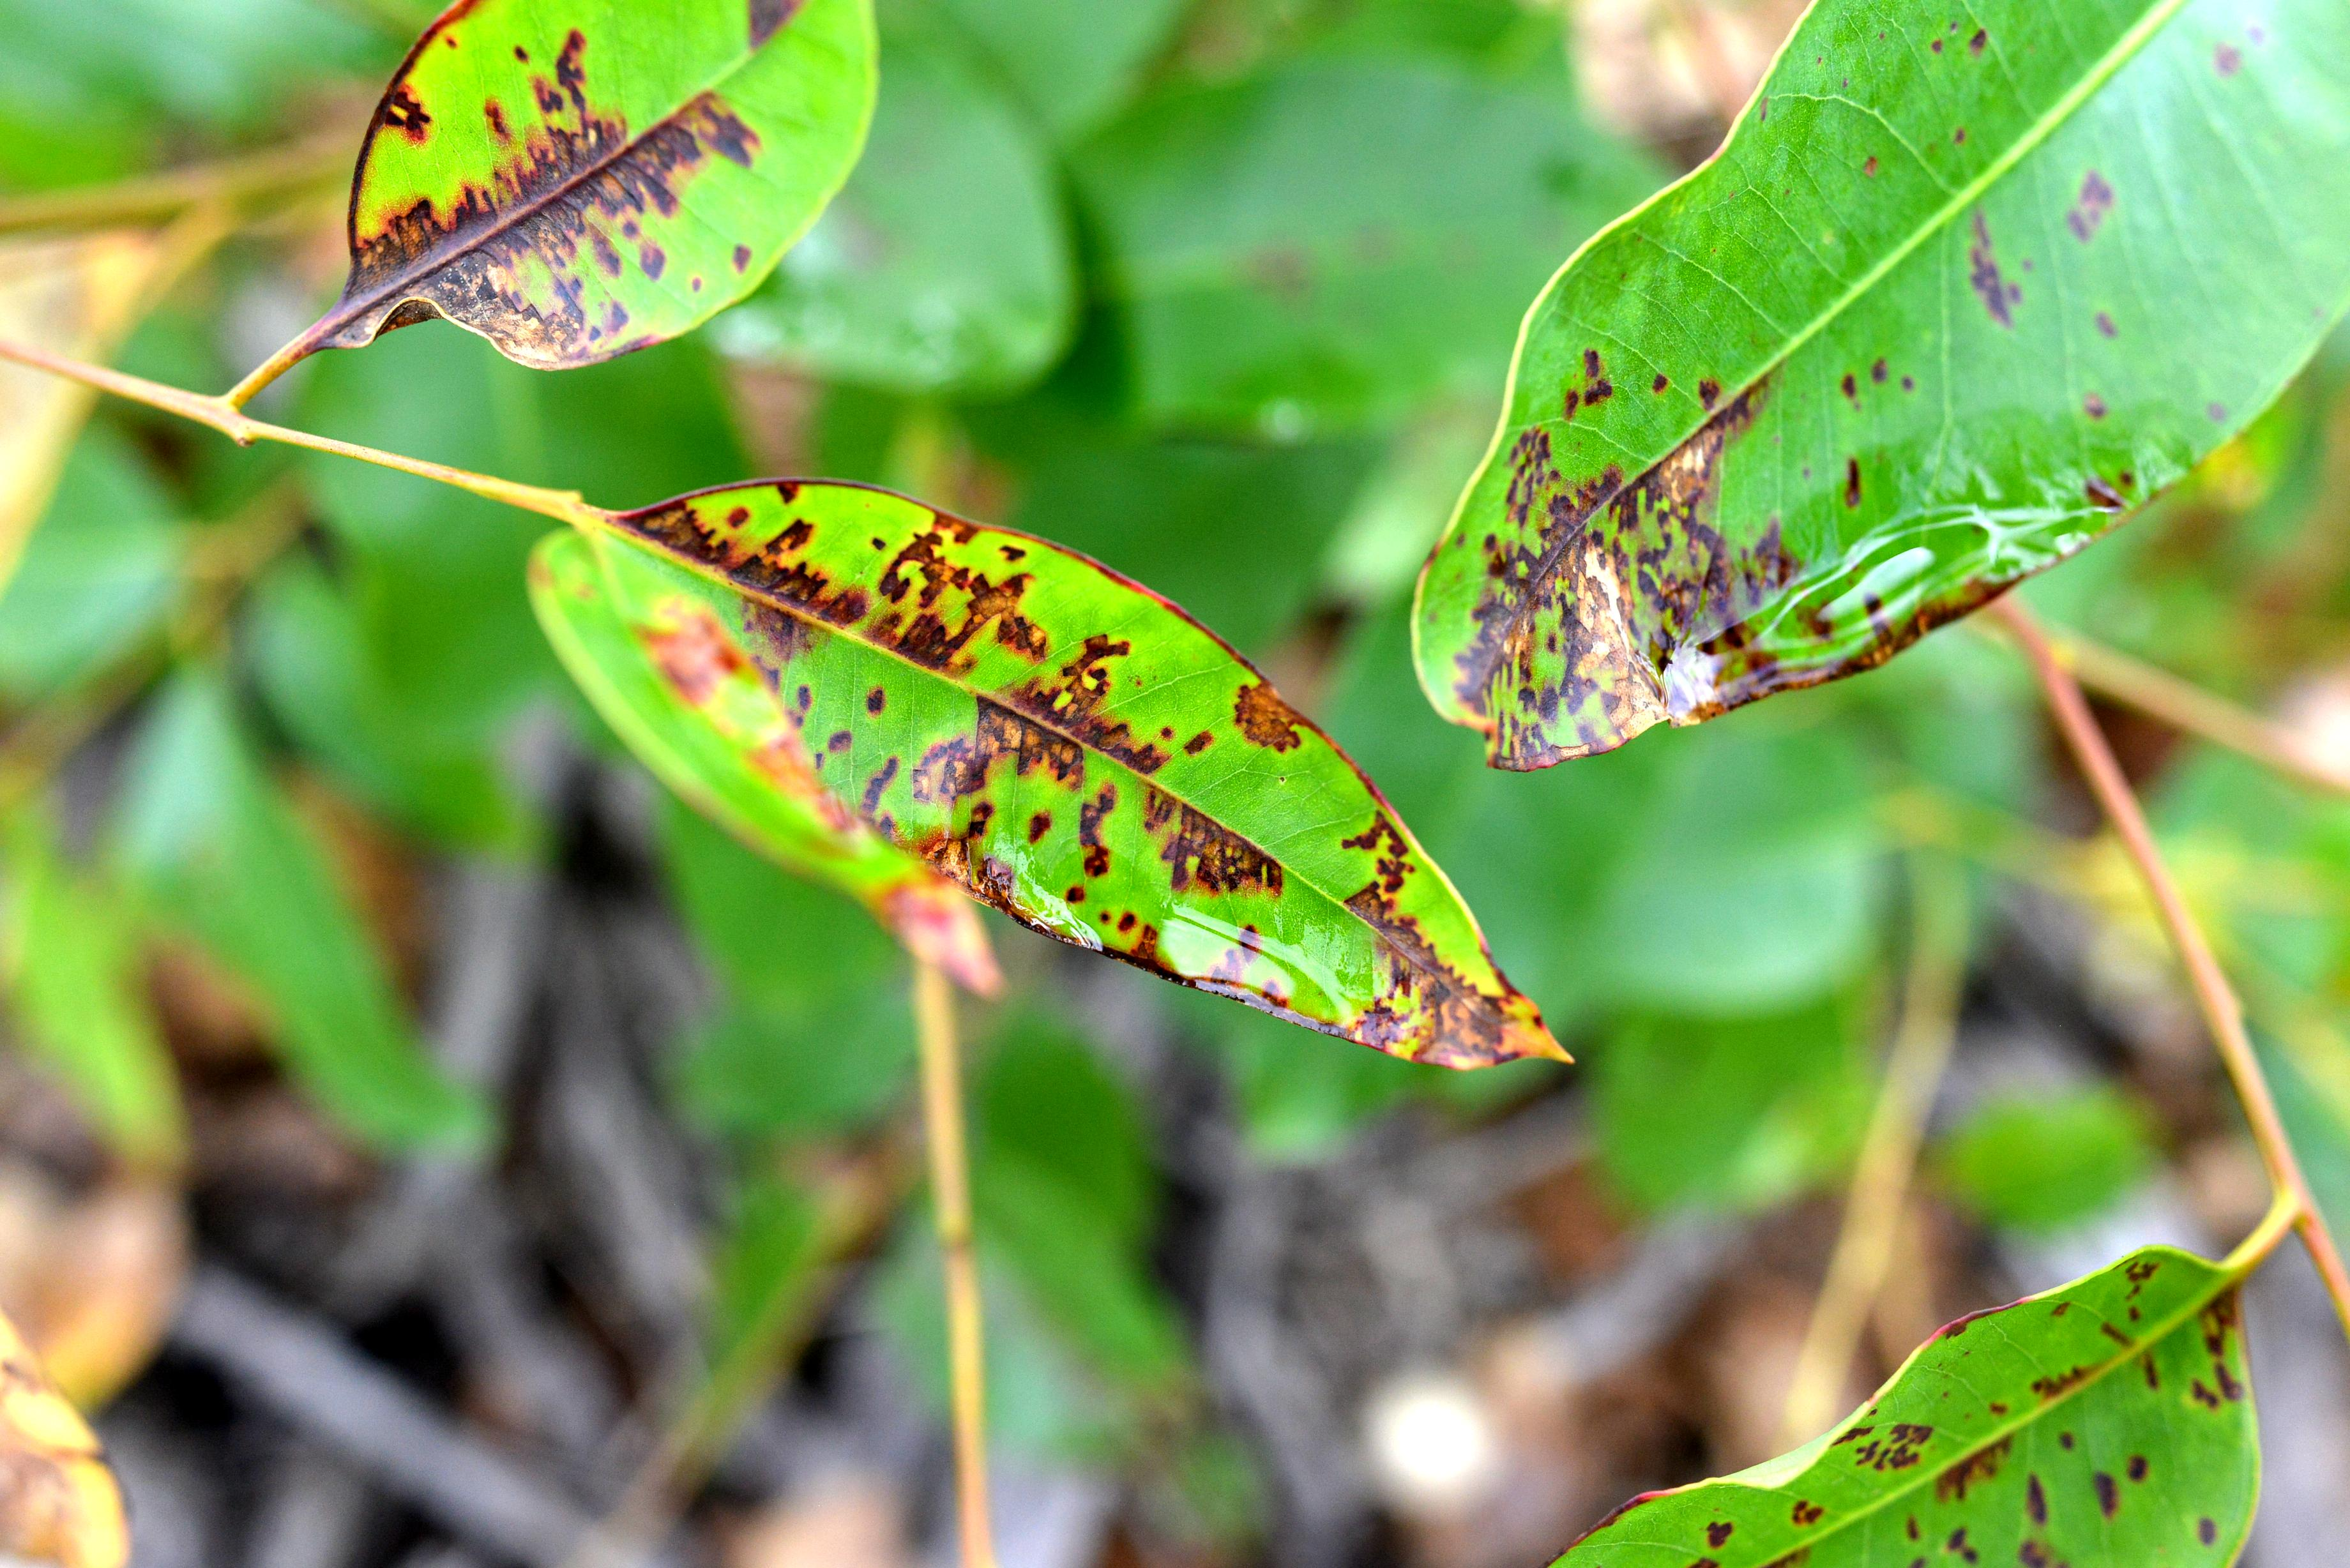Xanthomonas: (693, 460, 1461, 1059), (1573, 1211, 2306, 1568), (301, 23, 857, 373), (1505, 479, 1811, 759)
